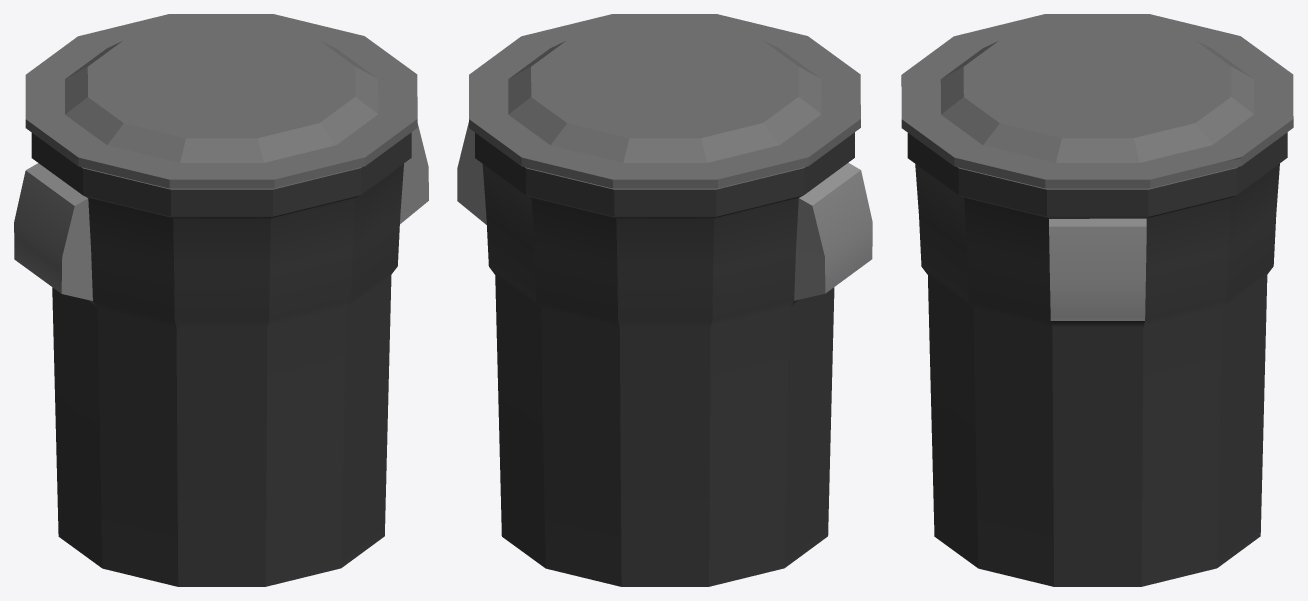
Rendered from Trash_bin.fbx.
3 views of the same model, side by side, from view 1: azimuth 30°, elevation 25°; view 2: azimuth 150°, elevation 25°; view 3: azimuth 270°, elevation 25° (orthographic).
Parts seen in each view (by area): view 1: Kitchen_trash_can:pCylinder3; view 2: Kitchen_trash_can:pCylinder3; view 3: Kitchen_trash_can:pCylinder3.
Part boxes in pixels (<box>): Kitchen_trash_can:pCylinder3: <box>14,14,428,586</box>; Kitchen_trash_can:pCylinder3: <box>457,14,872,586</box>; Kitchen_trash_can:pCylinder3: <box>901,14,1293,586</box>.
Bounding box in the file's own units: 10.03 × 11.36 × 9.25.
